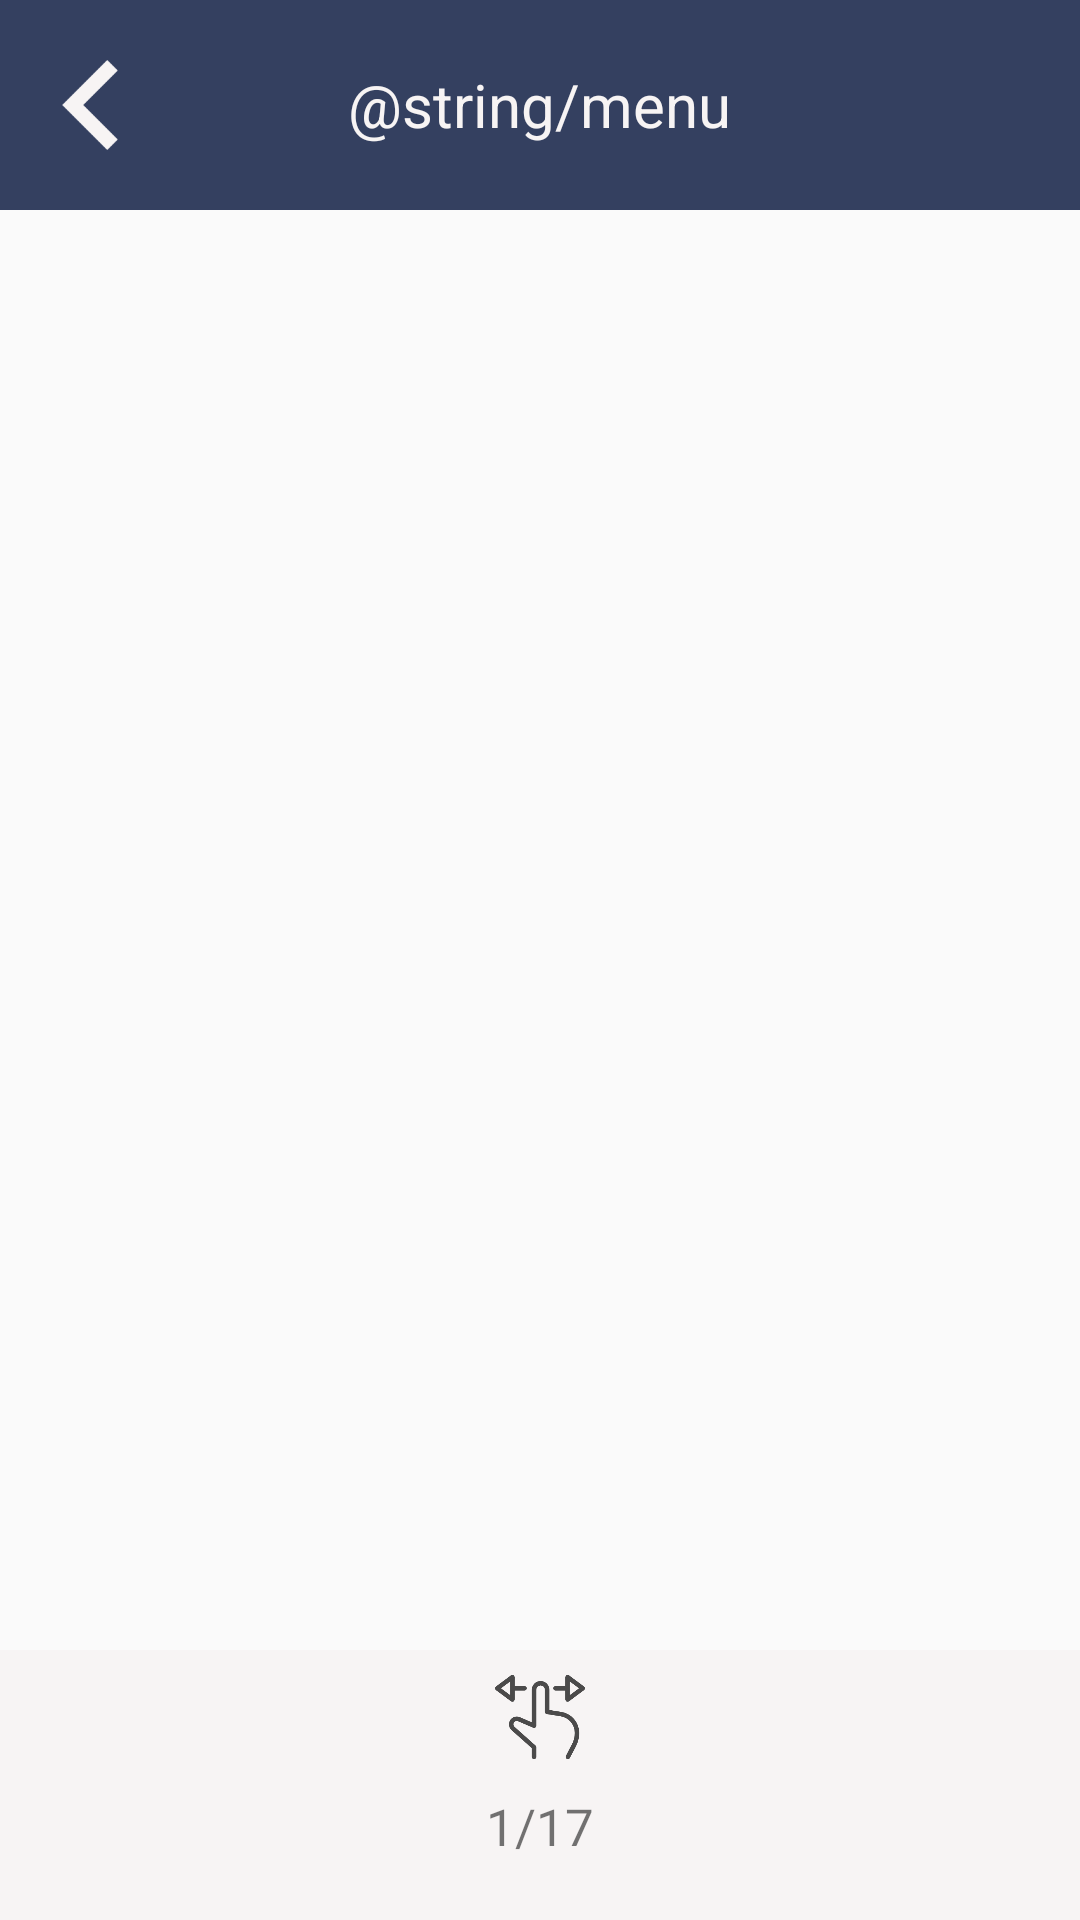

Named icons in this screenshot (1080px x 1920px) and their bounding boxes, bbox(x1, y1, x2, y2):
arrow left: bbox(62, 60, 118, 150)
swipe: bbox(495, 1675, 585, 1759)
